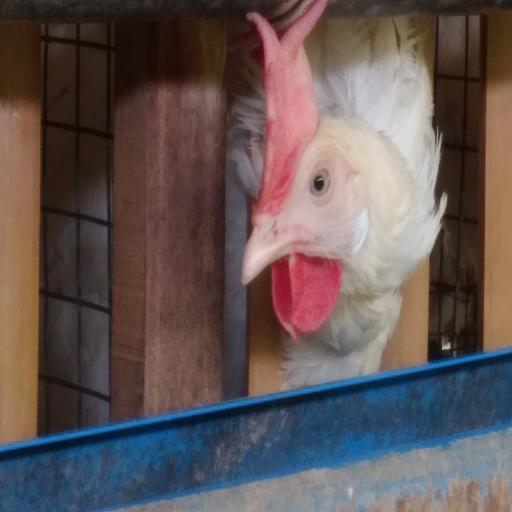healthy: (267, 37, 345, 242)
